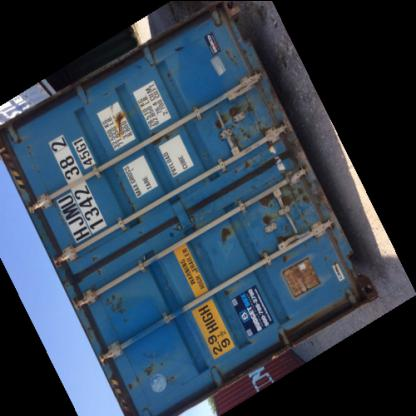Damage: (247, 183, 311, 224), (113, 366, 184, 392), (201, 100, 249, 124), (9, 132, 39, 170), (98, 289, 128, 320), (210, 221, 236, 256), (264, 234, 296, 262), (108, 110, 134, 144), (212, 42, 238, 68), (234, 153, 256, 168)
